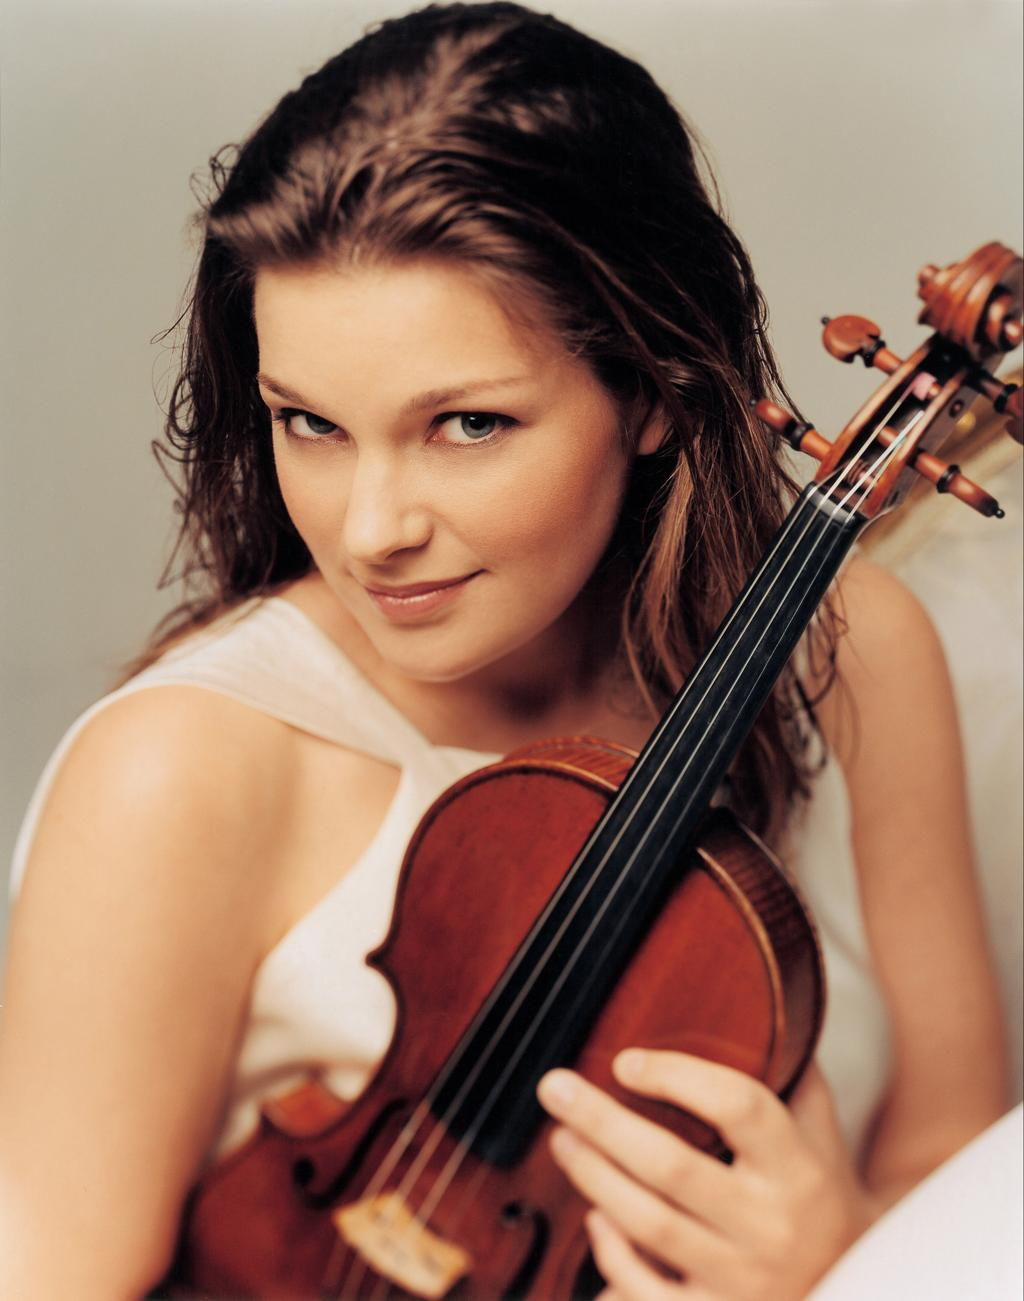face: (250, 278, 616, 679)
